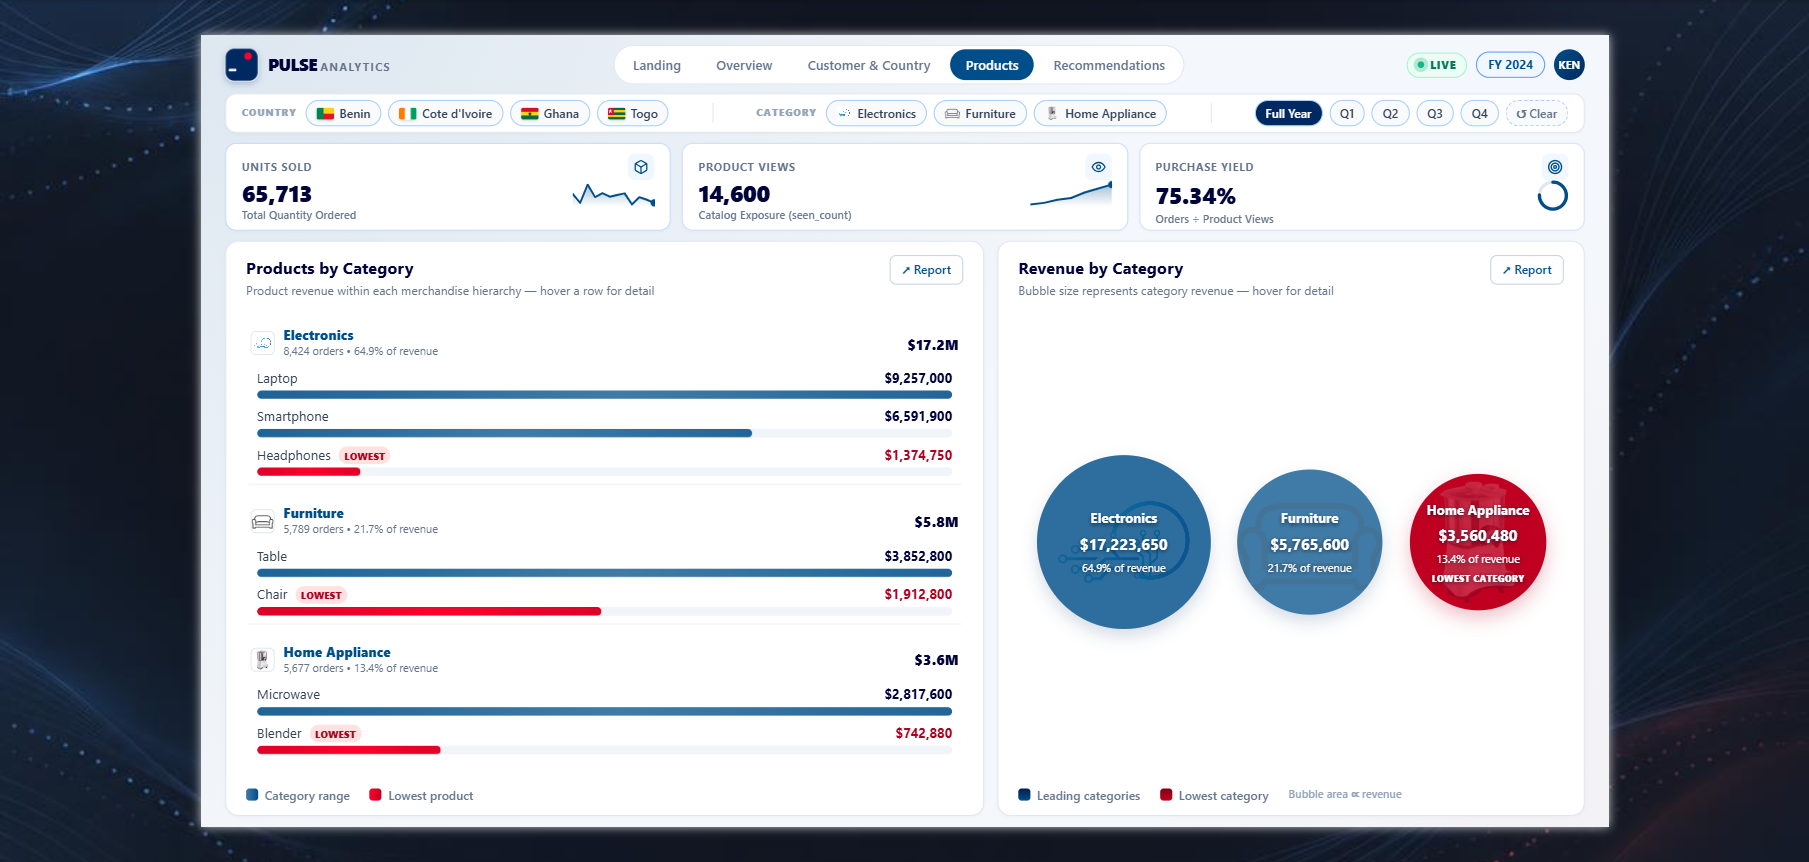

This screenshot's page, from the dashboard's own definition file:
{"tool":"powerbi","page":{"name":"Products Page","canvas":[1280,720],"ordinal":3},"visuals":[{"type":"htmlContent443BE3AD55E043BF878BED274D3A6855","fields":{"content":["HTML_Visuals.Product_Page"]},"box":[0,0,1280,720],"z":0}]}

Visuals, with their boxes on the page's 1280x720 design canvas (x1, y1, x2, y2). These are canvas units, not pixel positions in the 1809x862 screenshot, which may show the page scaled, cropped or inside an application window:
htmlContent443BE3AD55E043BF878BED274D3A6855 - HTML_Visuals.Product_Page: {"x1": 0, "y1": 0, "x2": 1280, "y2": 720}
